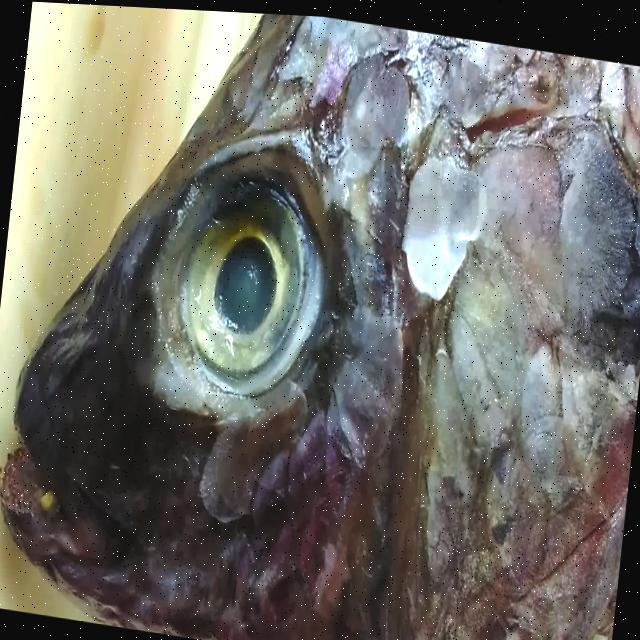Non-Fresh: (133, 115, 360, 427)
